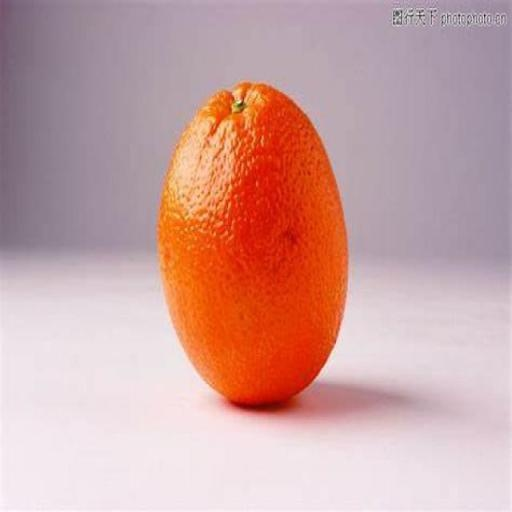fruit: (158, 84, 347, 403)
